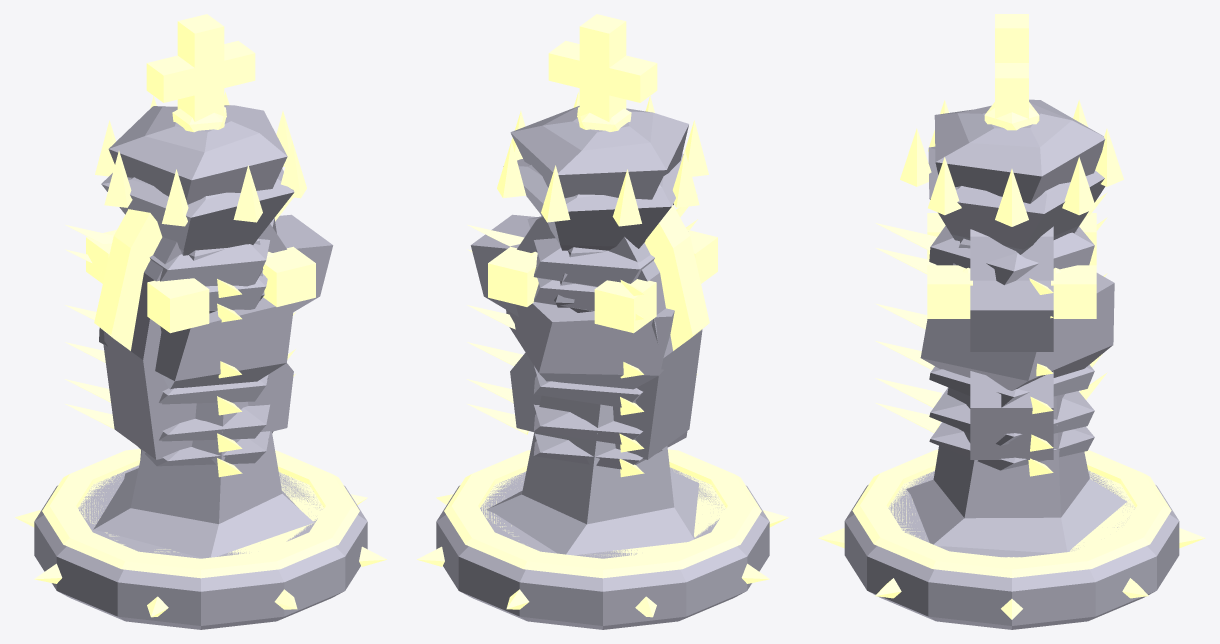
File: storm.glb
The picture shows the model from 3 angles, left to right: view 1: azimuth 30°, elevation 25°; view 2: azimuth 150°, elevation 25°; view 3: azimuth 270°, elevation 25°; orthographic projection.
Parts seen in each view (by area): view 1: disc, K, N, R, Q, B, P; view 2: disc, K, R, N, Q, B, P; view 3: disc, K, N, R, Q, B, P.
Boxes of the visible parts, x1,y1,x2,y2 form: disc: [15, 449, 386, 629]; K: [65, 14, 293, 523]; N: [64, 209, 333, 477]; R: [65, 229, 315, 415]; Q: [65, 92, 306, 322]; B: [65, 238, 313, 558]; P: [64, 349, 295, 452]; disc: [417, 449, 788, 629]; K: [467, 14, 697, 524]; R: [467, 229, 717, 415]; N: [466, 205, 709, 477]; Q: [467, 92, 708, 320]; B: [467, 247, 699, 555]; P: [466, 379, 644, 452]; disc: [818, 449, 1205, 629]; K: [875, 14, 1107, 518]; N: [875, 226, 1107, 476]; R: [875, 213, 1114, 413]; Q: [875, 100, 1123, 318]; B: [875, 230, 1126, 553]; P: [875, 354, 1102, 451].
Bounding box in the file's own units: 1.02 × 1.58 × 1.02.
